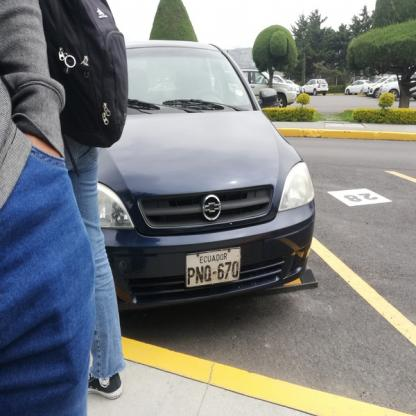Placa: (180, 248, 248, 289)
